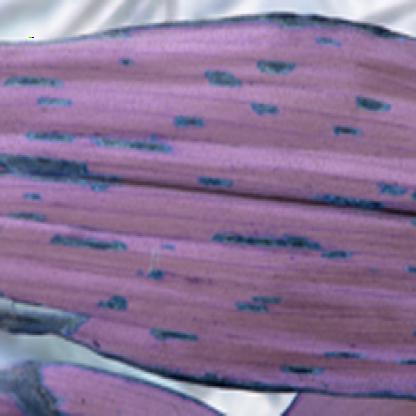Corn Gray leaf spot: (1, 14, 414, 397)
